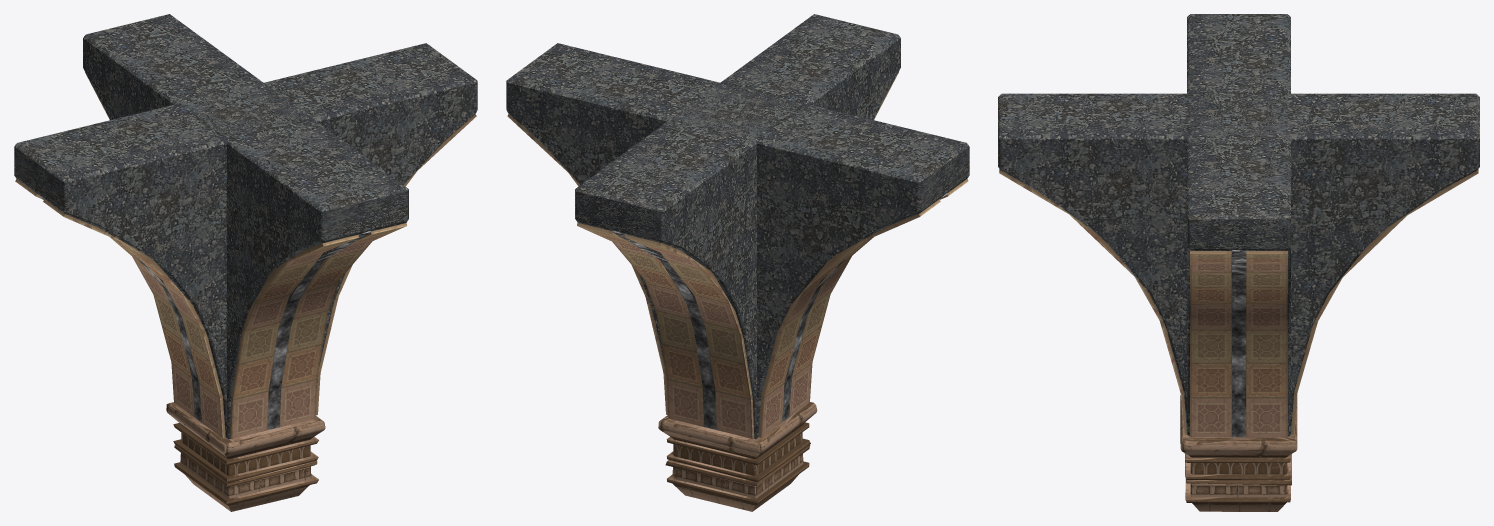
Rendered from SM_temple_ceiling_01.fbx.
3 views of the same model, side by side, from view 1: azimuth 30°, elevation 25°; view 2: azimuth 150°, elevation 25°; view 3: azimuth 270°, elevation 25° (orthographic).
Visible parts, largest first — view 1: SM_temple_ceiling_01_LOD0; view 2: SM_temple_ceiling_01_LOD0; view 3: SM_temple_ceiling_01_LOD0.
Boxes of the visible parts, x1,y1,x2,y2 form: SM_temple_ceiling_01_LOD0: [14, 14, 477, 511]; SM_temple_ceiling_01_LOD0: [506, 14, 969, 511]; SM_temple_ceiling_01_LOD0: [998, 14, 1479, 511].
Bounding box in the file's own units: 800 × 800 × 700.
